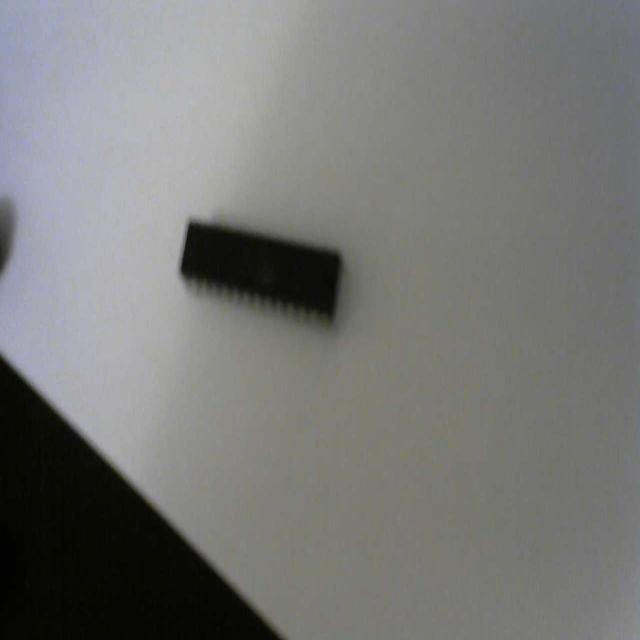atmega: (176, 212, 344, 332)
